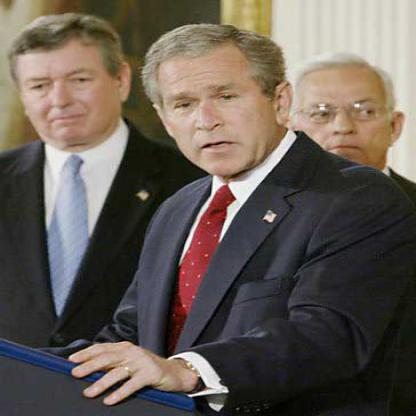face: (158, 27, 276, 179), (17, 18, 121, 149), (294, 57, 393, 177)
